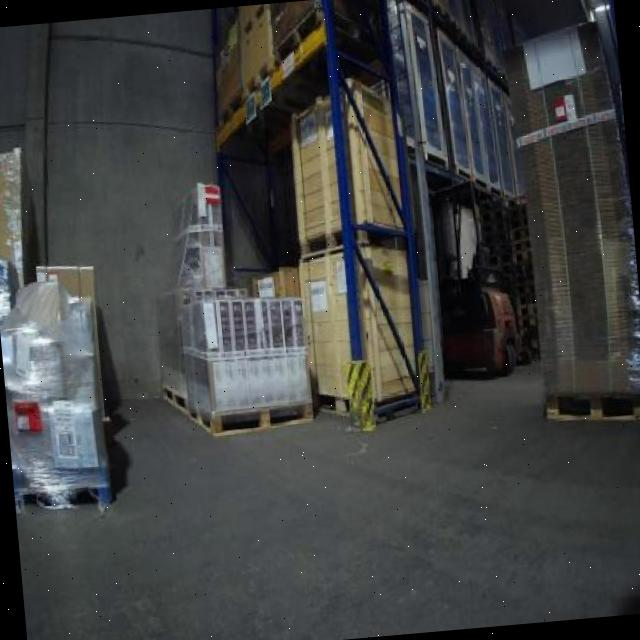pallet: (532, 365, 640, 435), (194, 394, 326, 440), (292, 227, 358, 260), (152, 381, 196, 421)
